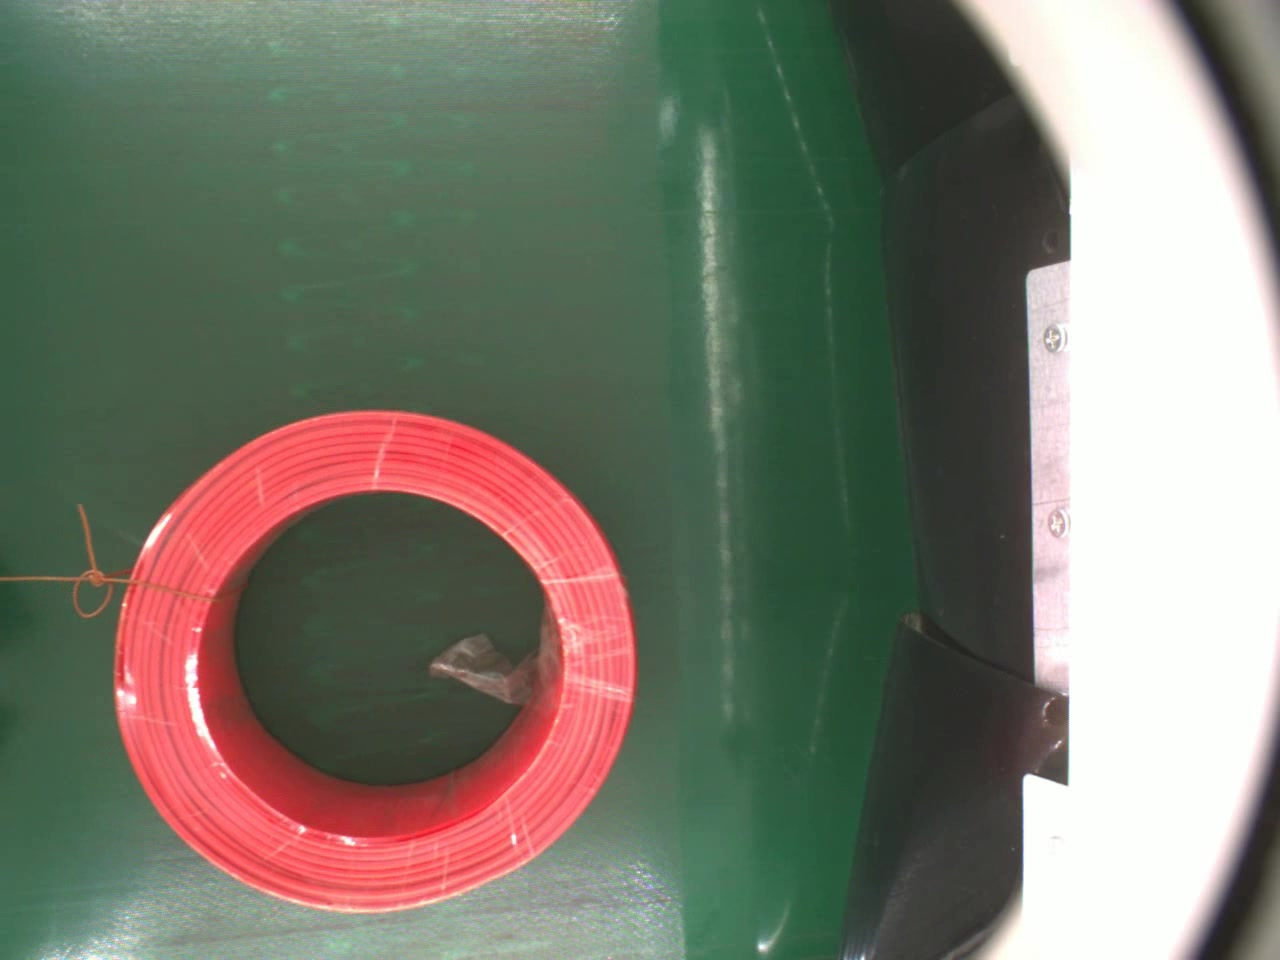red: (98, 394, 645, 903)
